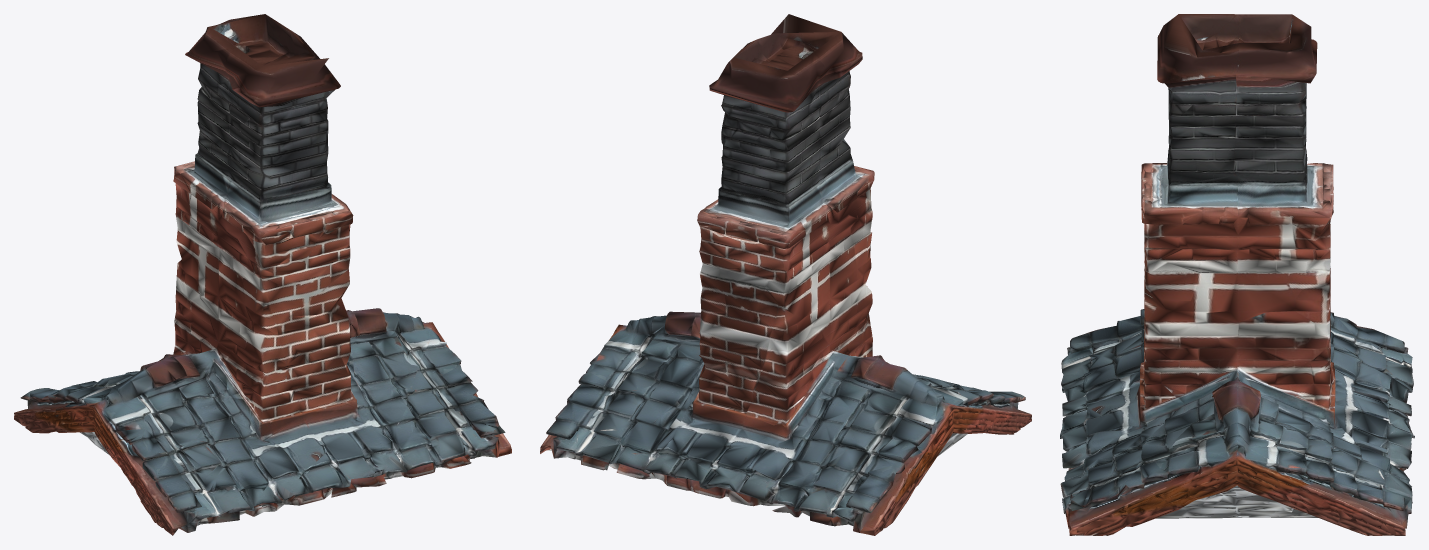
File: chimney.glb
The picture shows the model from 3 angles, left to right: view 1: azimuth 30°, elevation 25°; view 2: azimuth 150°, elevation 25°; view 3: azimuth 270°, elevation 25°; orthographic projection. The views are drawn at different scales.
Parts seen in each view (by area): view 1: Mesh_0.001; view 2: Mesh_0.001; view 3: Mesh_0.001.
Boxes of the visible parts, x1=… form: Mesh_0.001: x1=14, y1=14, x2=511, y2=535; Mesh_0.001: x1=540, y1=14, x2=1031, y2=535; Mesh_0.001: x1=1060, y1=14, x2=1414, y2=535.
Size of the model in its own units: 0.8966 by 1 by 0.7655.
Materials: 1 (1 with a texture image).
